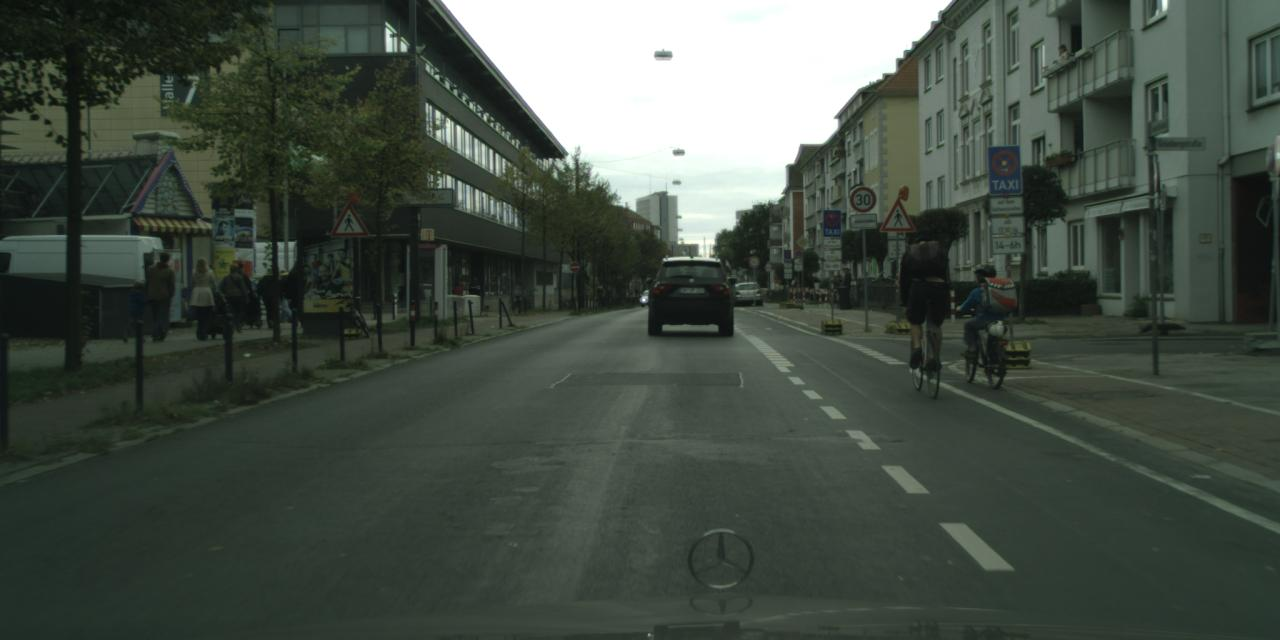ped: (898, 227, 954, 365), (187, 256, 272, 341), (122, 252, 176, 344), (965, 263, 1003, 358), (280, 262, 298, 324), (838, 267, 854, 307), (467, 278, 482, 312), (452, 281, 464, 312), (144, 338, 148, 342), (299, 320, 301, 328)
